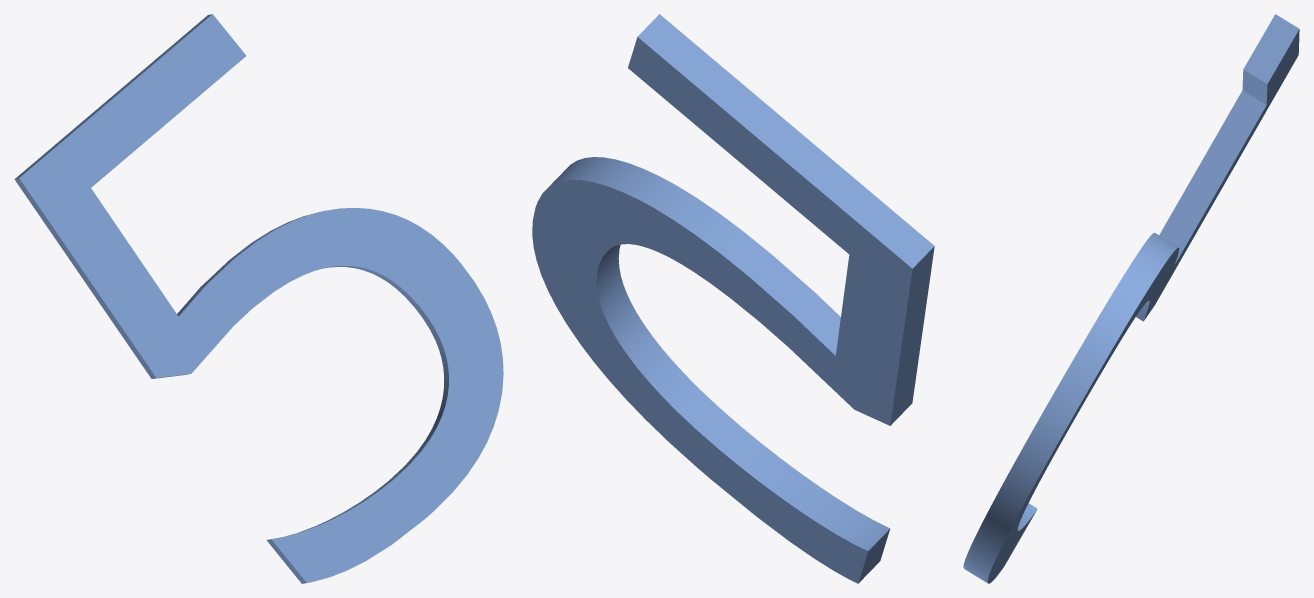
File: New_Number_5.gltf
3 renders of one model, left to right at view 1: azimuth 30°, elevation 25°; view 2: azimuth 150°, elevation 25°; view 3: azimuth 270°, elevation 25°, orthographic. The views are drawn at different scales.
Visible parts, largest first — view 1: Part 68; view 2: Part 68; view 3: Part 68.
Boxes of the visible parts, box(x1,y1,x2,y2) form: Part 68: box(14, 14, 503, 583); Part 68: box(532, 14, 934, 583); Part 68: box(963, 14, 1299, 583).
Size of the model in its own units: 0.00461 by 0.0056 by 0.00301.
